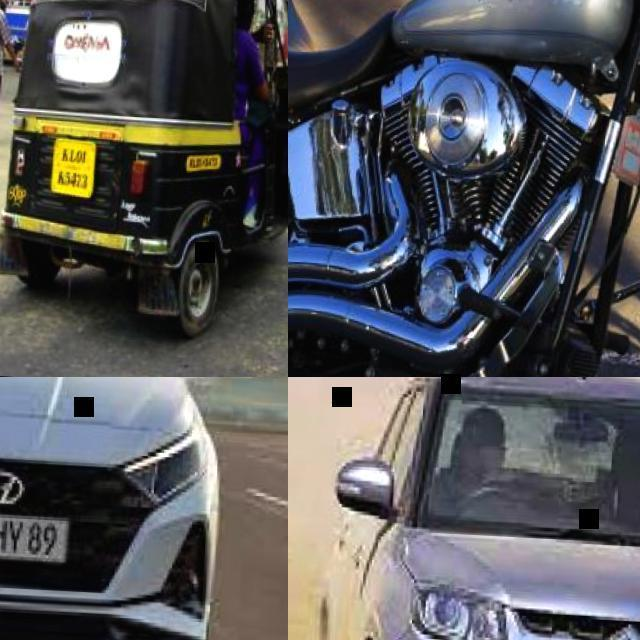car: (1, 0, 274, 335), (1, 377, 217, 638)
